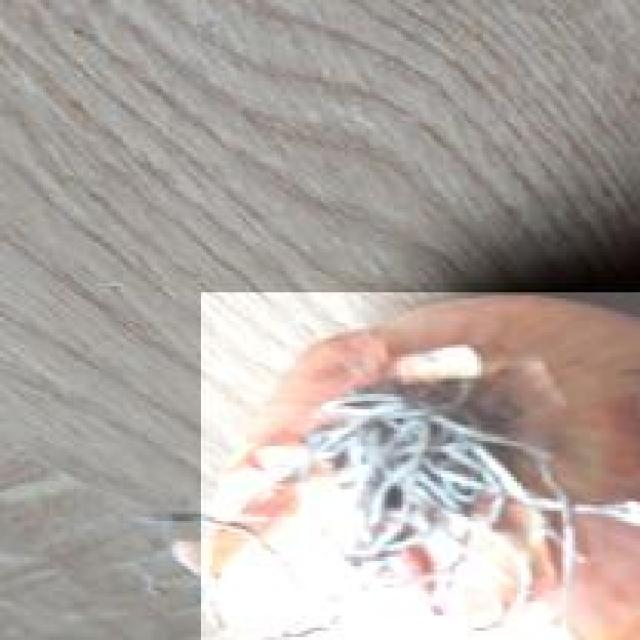onion: (194, 289, 640, 640)
